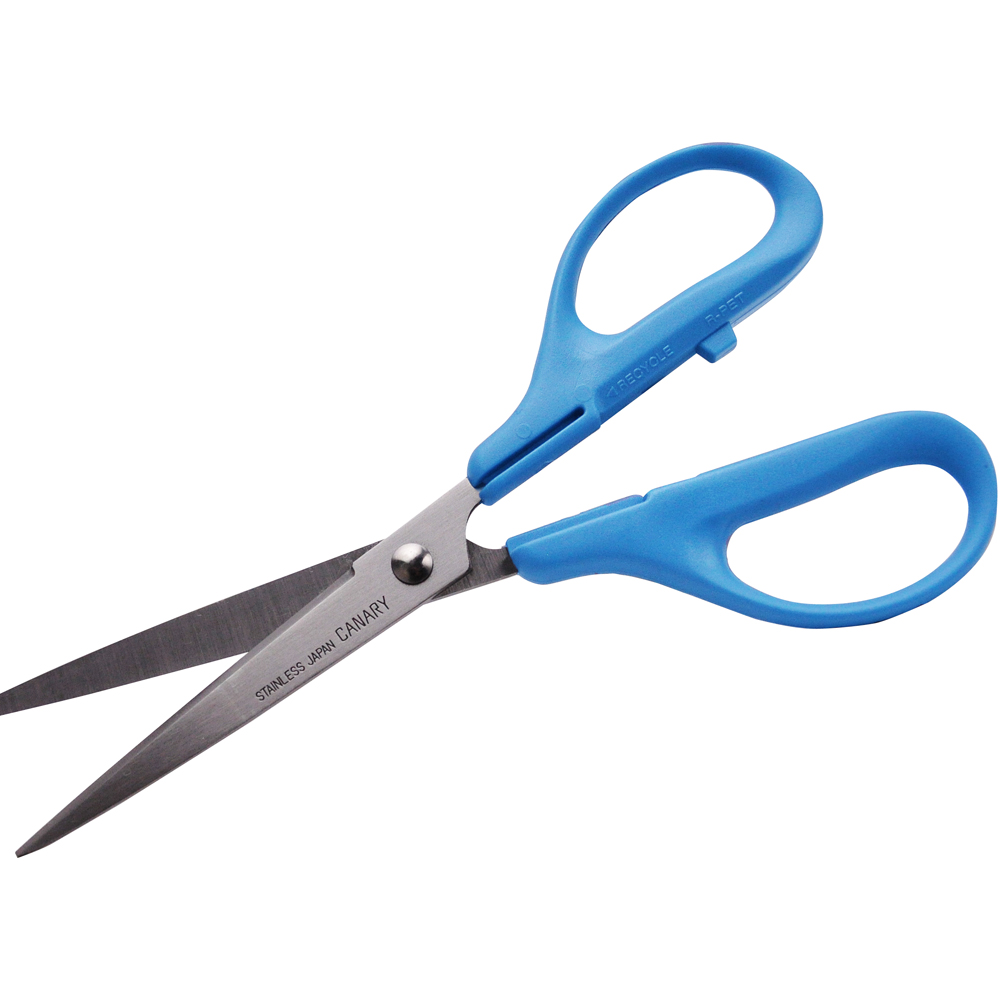scissors: (2, 139, 1000, 862)
